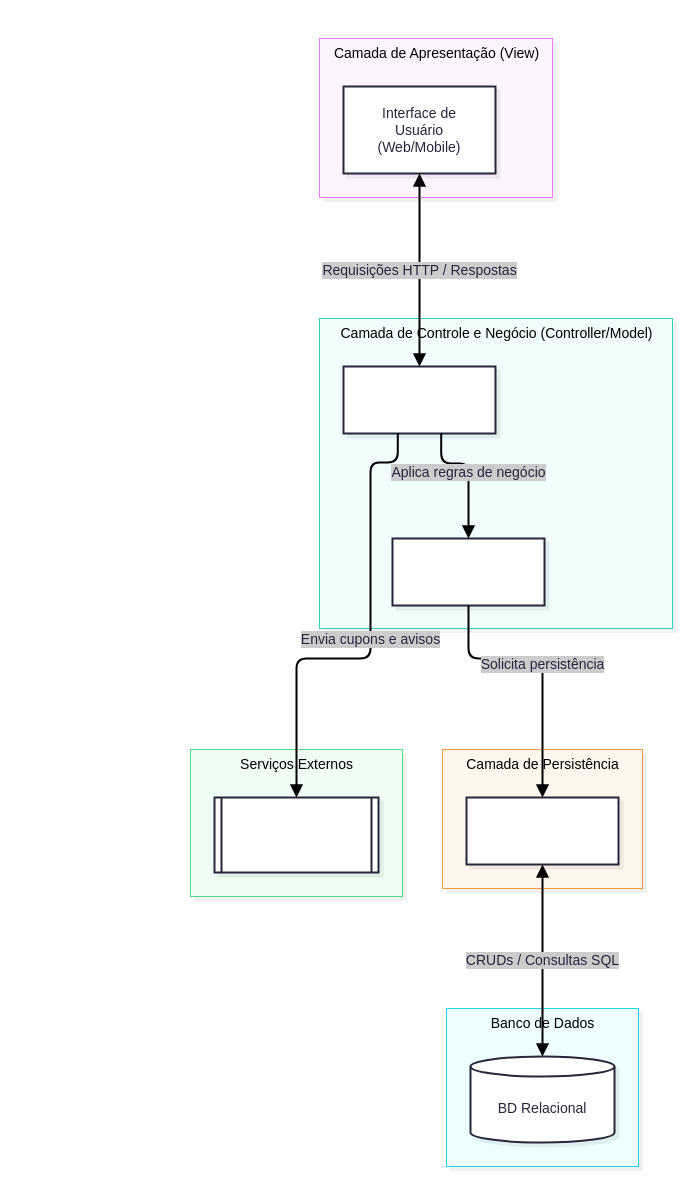
The diagram is 694 pixels wide and 1188 high, and some of its shapes have lost their labels. Here are the shapes that lost their labels. From the top down, the centre of each, then its label:
At (421,401): "Controladores MVC".
At (470,573): "Modelos de Domínio".
At (298,836): "Serviço de Notificação por Email".
At (544,832): "Padrão DAO / ORM".
